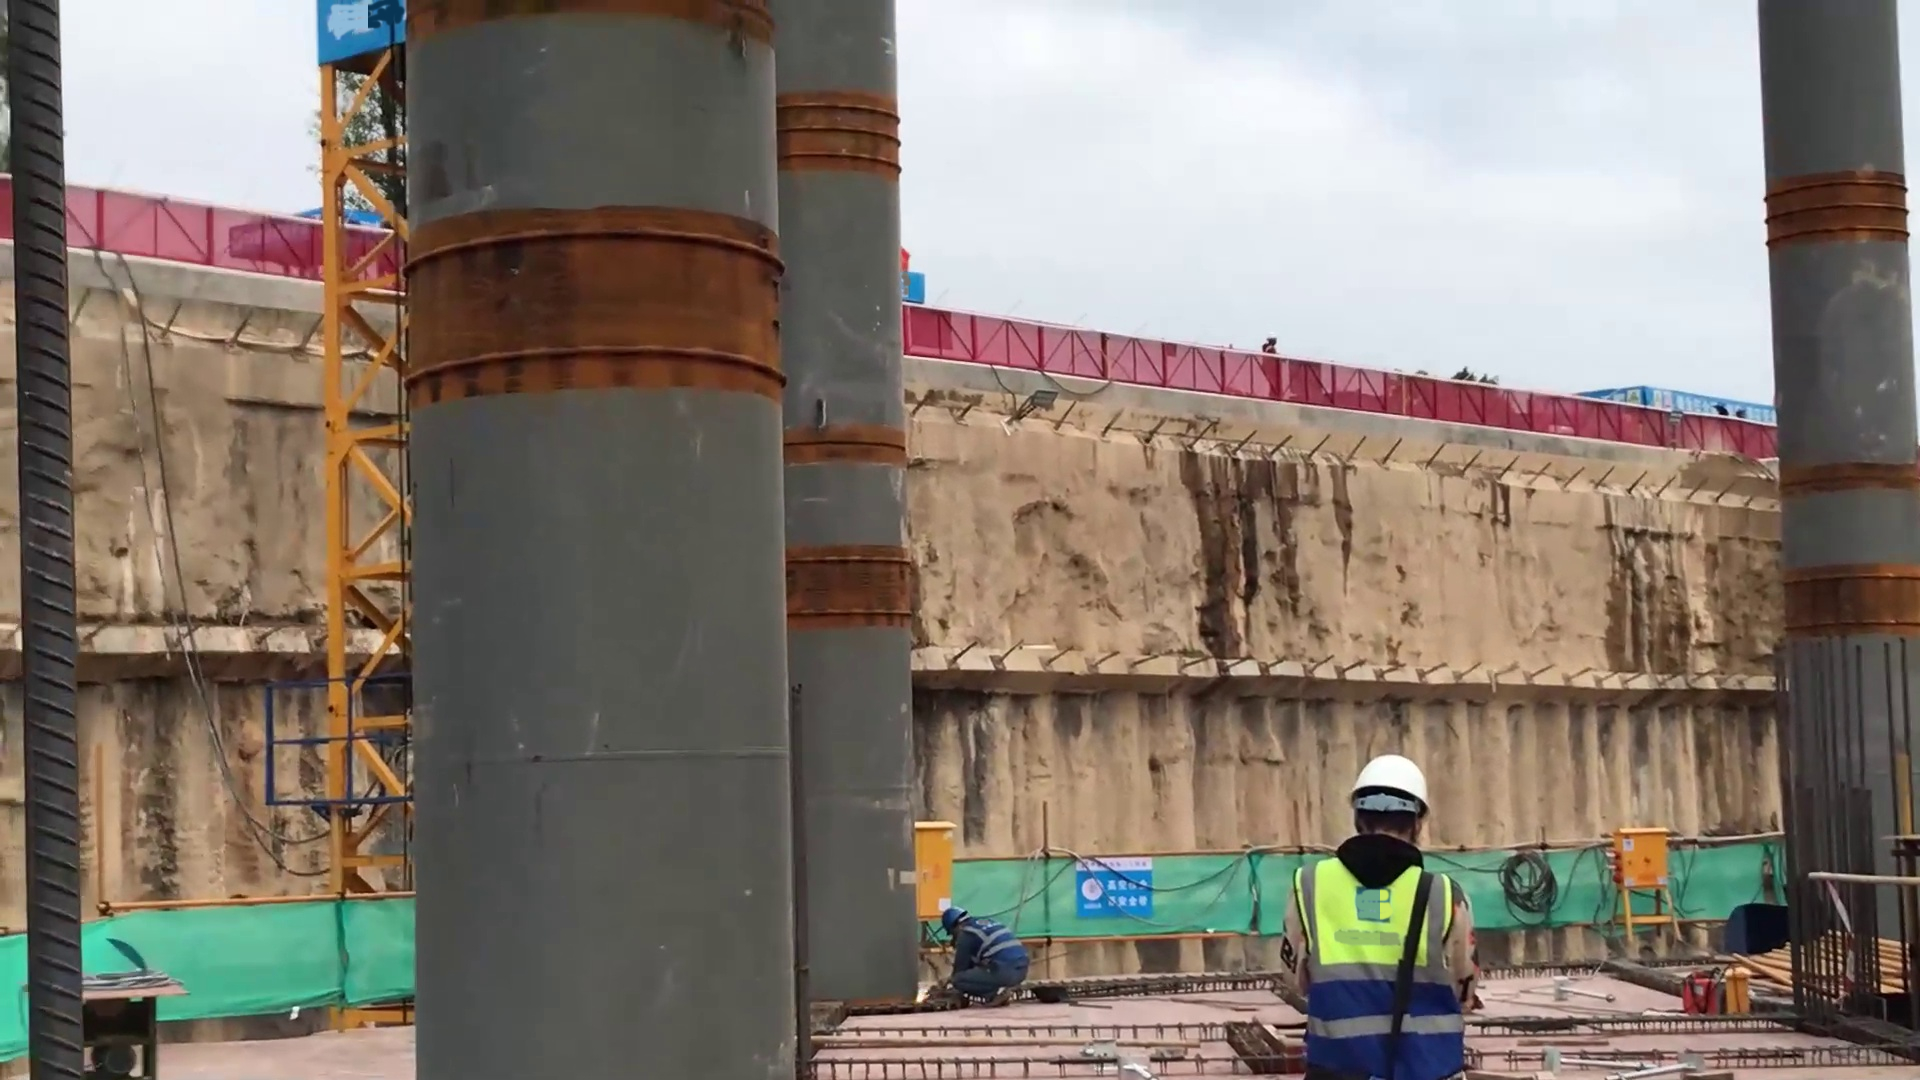ebox: (1595, 814, 1691, 969), (914, 807, 968, 939)
fence: (908, 285, 1784, 488), (85, 159, 314, 345)
helmet: (1338, 743, 1438, 826), (938, 903, 975, 935)
person: (1286, 756, 1476, 1080), (933, 904, 1043, 999)
slogan: (1524, 354, 1782, 477), (1074, 848, 1166, 929)
vest: (1293, 843, 1468, 1072), (969, 916, 1037, 983)
